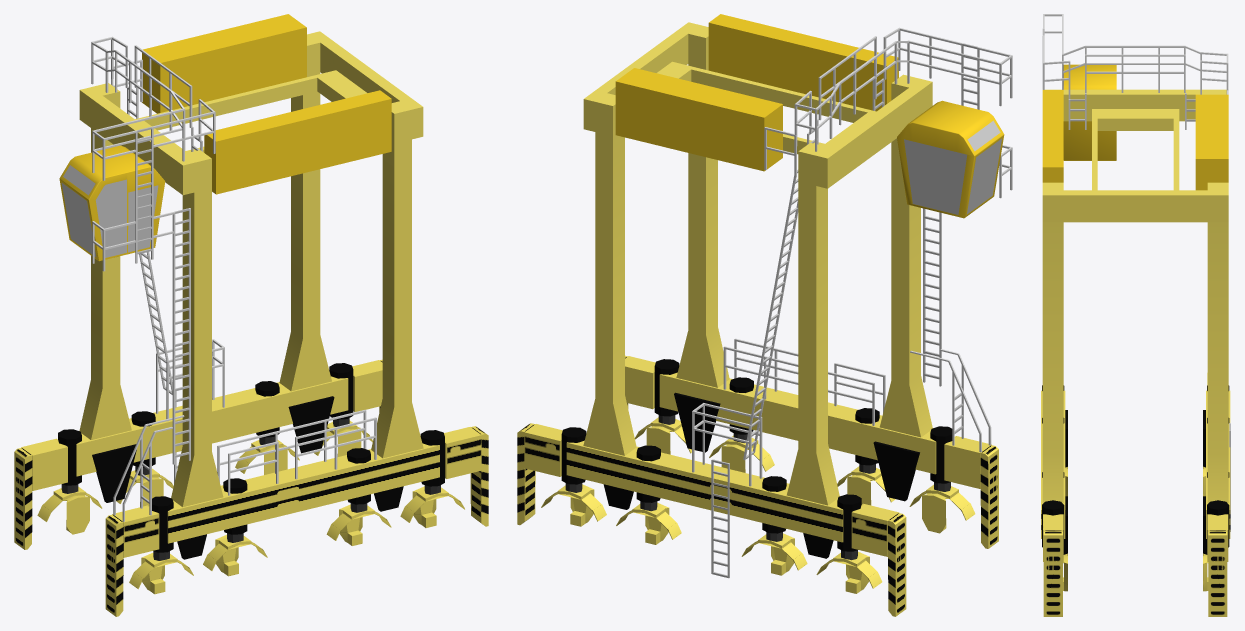
Rendered from Straddle Carrier.obj.
3 views of the same model, side by side, from view 1: azimuth 30°, elevation 25°; view 2: azimuth 150°, elevation 25°; view 3: azimuth 270°, elevation 25° (orthographic). The views are drawn at different scales.
Visible parts, largest first — view 1: Frame_poles.Low.001; view 2: Frame_poles.Low.001; view 3: Frame_poles.Low.001.
Part boxes in pixels (x1,y1,x2,y2): Frame_poles.Low.001: [14, 14, 488, 616]; Frame_poles.Low.001: [517, 14, 1012, 616]; Frame_poles.Low.001: [1041, 14, 1230, 616].
Size of the model in its own units: 11.03 by 13.28 by 5.18.
Materials: 13 (8 with a texture image).
